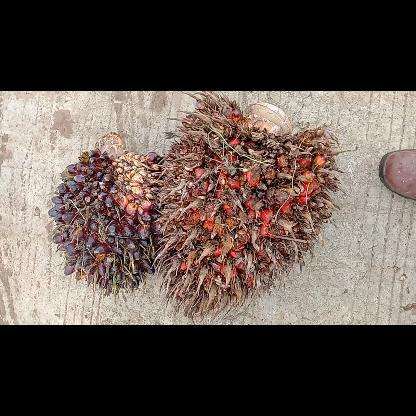TBS mentah: (48, 131, 166, 296)
Terlalu masak: (152, 90, 350, 324)
